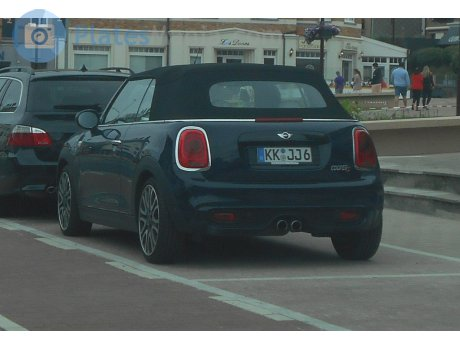License Plates: (260, 143, 311, 159)
